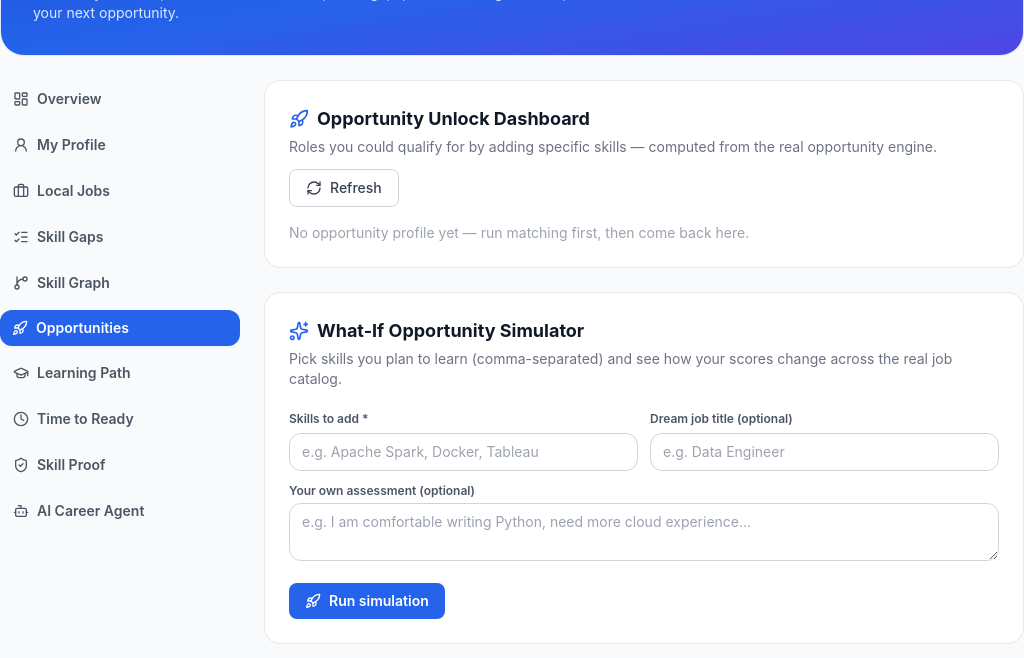
Scenario: Skill2Job Career Intelligence › runs the What-If simulator on the Opportunities page
Expected: the heading "What-If Opportunity Simulator" is shown, [317,317,584,345]
Type "SQL" into the field with placeholder "e.g. Apache Spark, Docker, Tableau" at (464, 452), box [289,433,638,471]
(page scrolled)
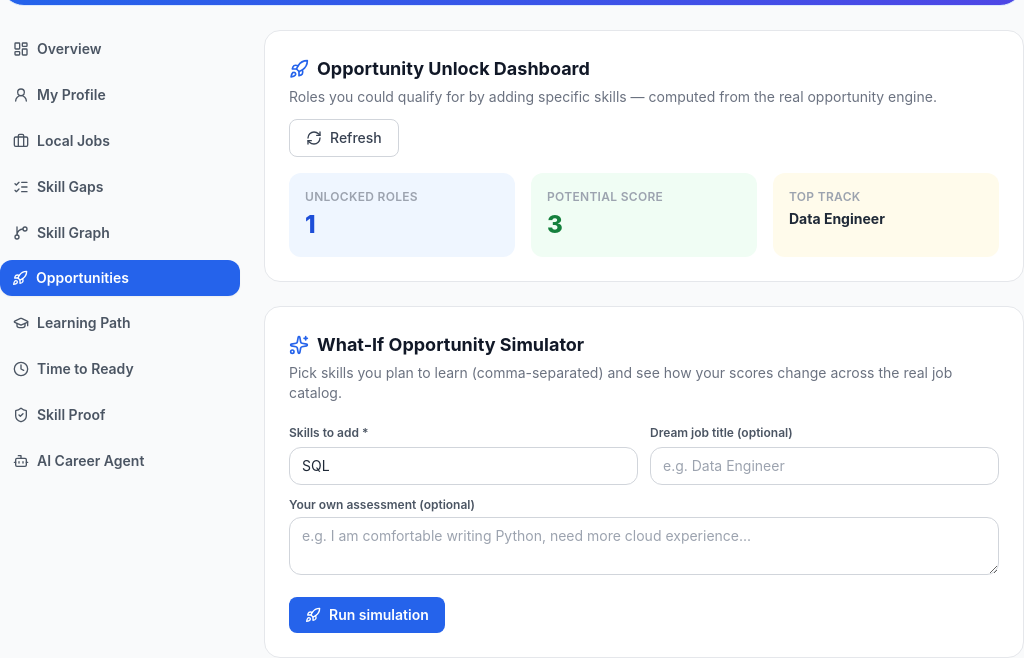
Click the button "Run simulation" at (367, 615), box [289,597,445,633]
(page scrolled)
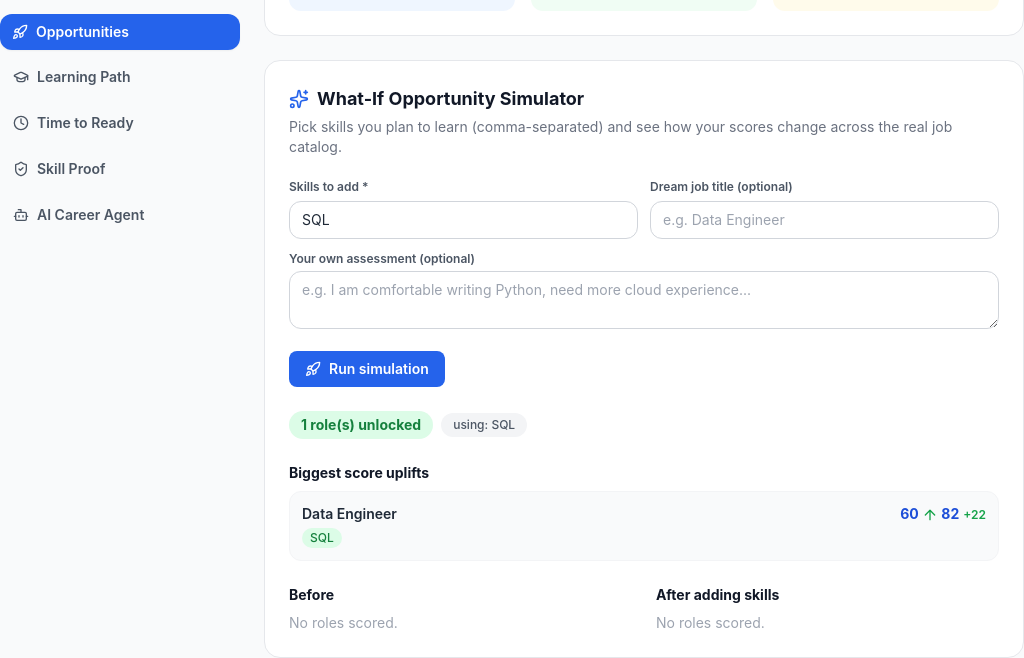
Result: the text "1 role(s) unlocked" is shown at [289,411,433,439]
Result: the text "+22" is shown at [963,507,986,522]
